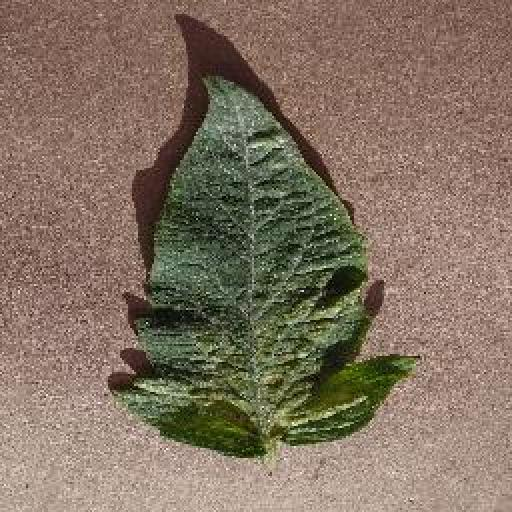Spider Mites: (110, 73, 420, 459)
